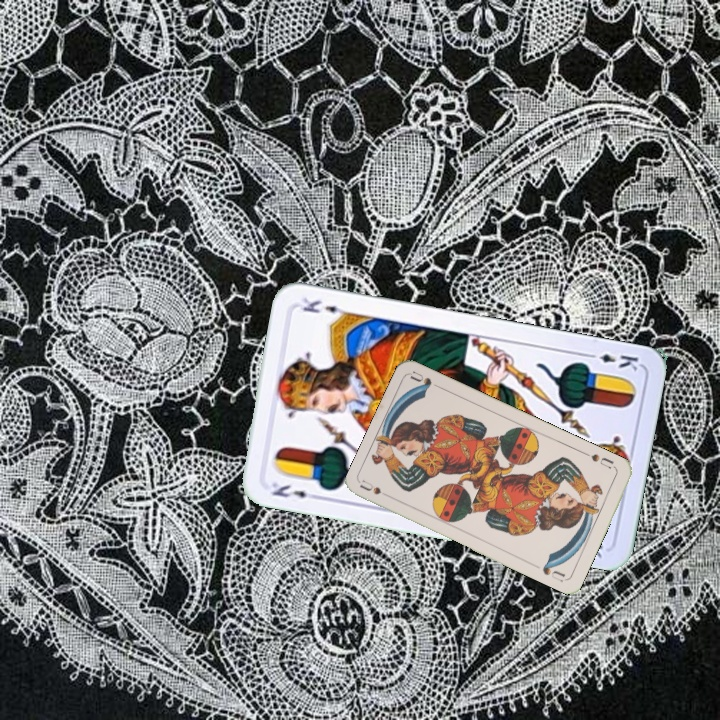EK: (267, 478, 322, 505), (582, 349, 641, 373)
SU: (580, 449, 616, 471), (357, 476, 384, 498)
